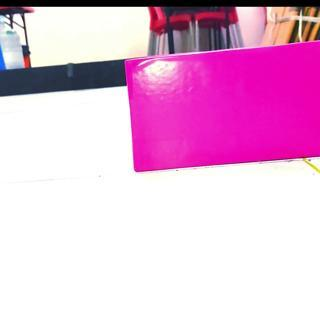xparking: (129, 58, 320, 167)
